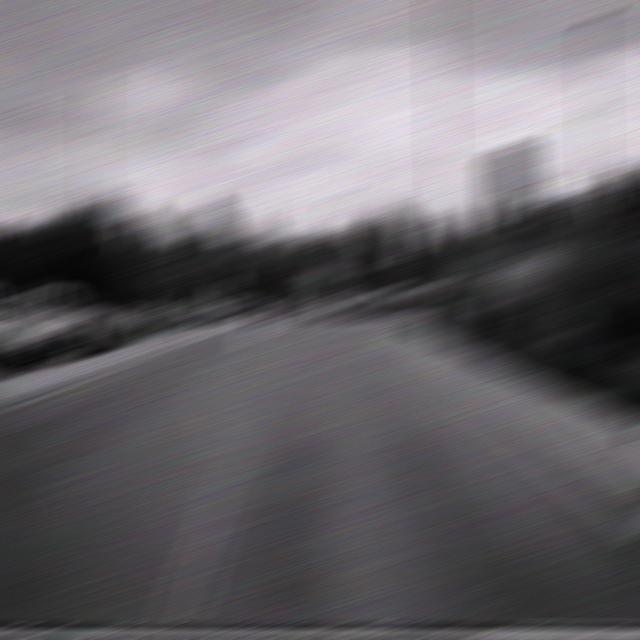stop_sign: (394, 236, 424, 258)
